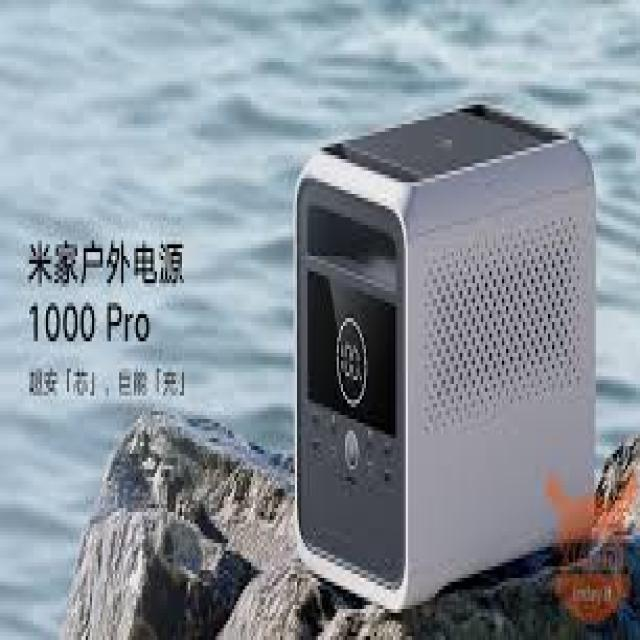power_bank: (292, 100, 598, 612)
